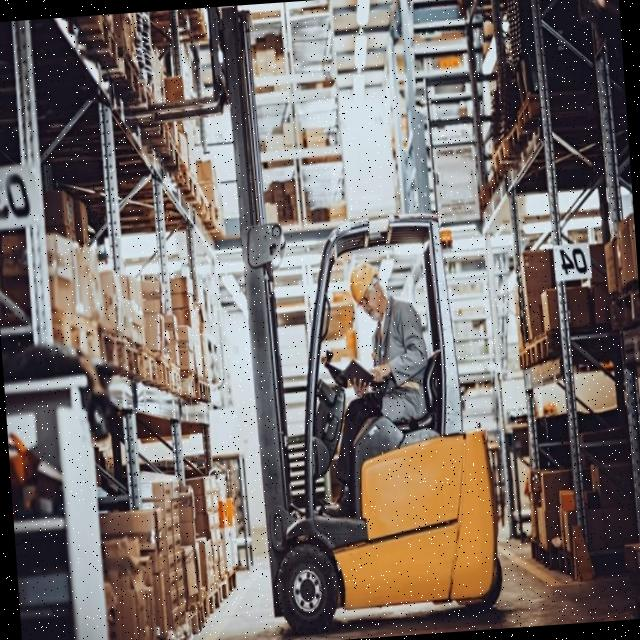Person: (304, 258, 440, 518)
